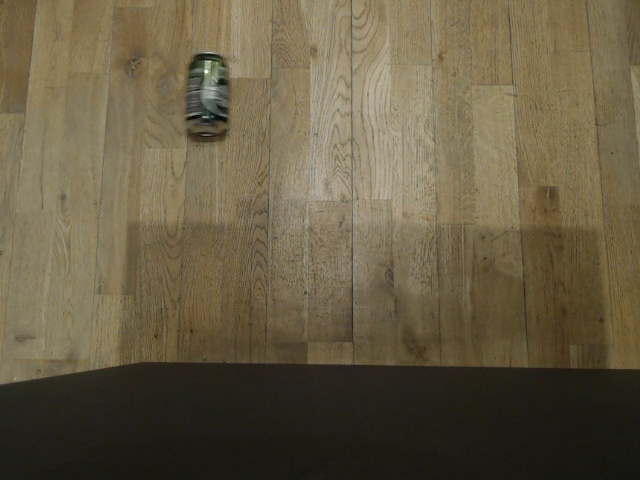beer: (182, 51, 233, 144)
